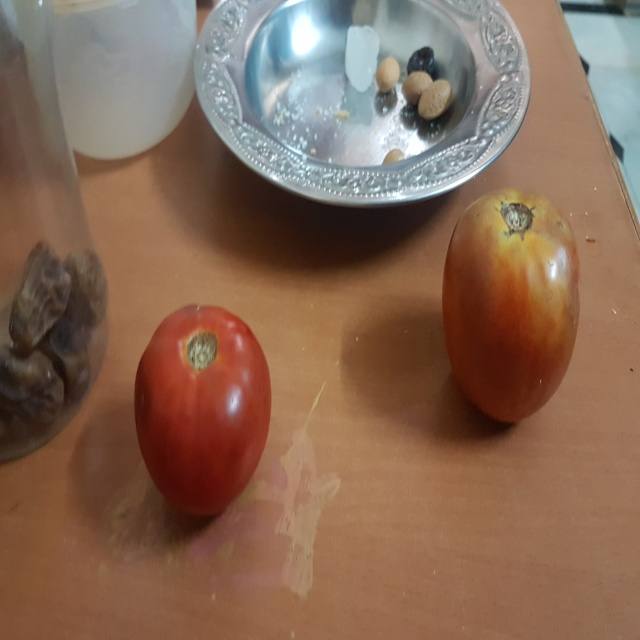tomato: (427, 181, 593, 439), (124, 302, 294, 531)
